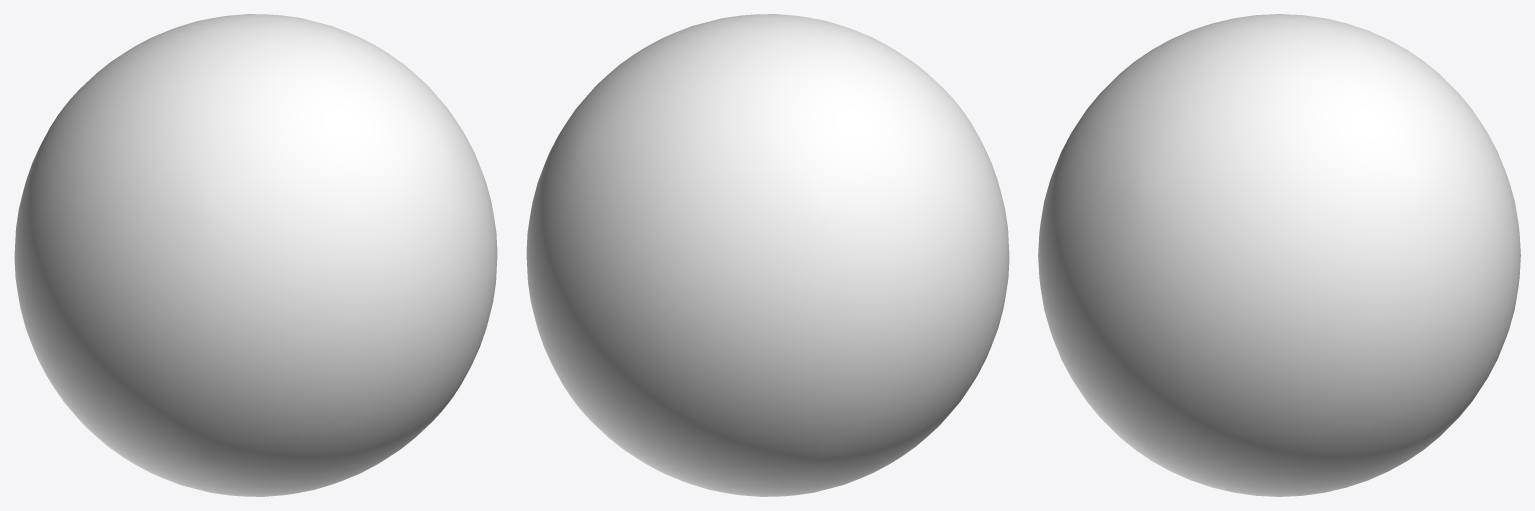
File: star_sky.fbx
The picture shows the model from 3 angles, left to right: view 1: azimuth 30°, elevation 25°; view 2: azimuth 150°, elevation 25°; view 3: azimuth 270°, elevation 25°; orthographic projection.
Parts seen in each view (by area): view 1: star_sphere; view 2: star_sphere; view 3: star_sphere.
Boxes of the visible parts, x1=… form: star_sphere: x1=14, y1=14, x2=497, y2=496; star_sphere: x1=526, y1=14, x2=1009, y2=496; star_sphere: x1=1038, y1=14, x2=1520, y2=496.
Bounding box in the file's own units: 86 × 86.01 × 86.
Materials: 1 (1 with a texture image).
